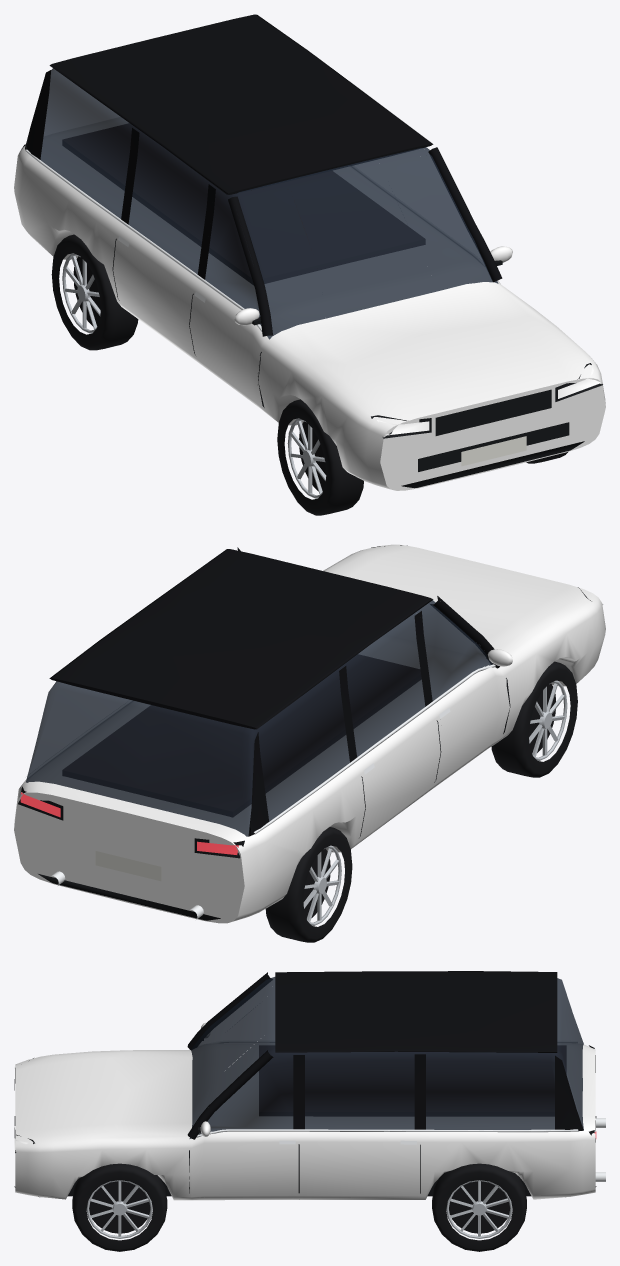
The model's file is solenne_marquee.lod.glb.
The picture shows the model from 3 angles, top to bottom: view 1: azimuth 30°, elevation 25°; view 2: azimuth 150°, elevation 25°; view 3: azimuth 270°, elevation 25°; orthographic projection. The views are drawn at different scales.
Parts seen in each view (by area): view 1: body_paint, body_roof, body_glass, body_trim, door_glass (×2), tire (×2), door_paint, body_pillar, rim (×2), body_chrome, door_pillar, headlights; view 2: body_paint, body_glass, body_roof, body_trim, tire (×2), door_paint, door_glass, rim (×2), body_pillar, body_chrome, rim_back (×2), door_pillar (+1 smaller); view 3: body_paint, body_glass, body_roof, body_trim, door_glass (×2), tire (×2), door_paint, body_pillar, rim_back (×2), rim (×2), body_chrome, door_pillar.
Boxes of the visible parts, x1,y1,x2,y2 form: body_paint: [14, 117, 605, 490]; body_roof: [49, 14, 433, 194]; body_glass: [40, 68, 438, 318]; body_trim: [21, 123, 602, 488]; door_glass (×2): [205, 147, 498, 339]; tire (×2): [51, 234, 363, 515]; door_paint: [193, 281, 269, 414]; body_pillar: [25, 70, 502, 336]; rim (×2): [62, 253, 326, 498]; body_chrome: [25, 149, 484, 332]; door_pillar: [203, 188, 266, 336]; headlights: [377, 367, 600, 435]; body_paint: [14, 544, 605, 923]; body_glass: [26, 612, 425, 836]; body_roof: [49, 549, 433, 729]; body_trim: [18, 545, 602, 920]; tire (×2): [265, 661, 577, 942]; door_paint: [433, 663, 507, 788]; door_glass: [416, 600, 492, 700]; rim (×2): [303, 680, 567, 925]; body_pillar: [237, 547, 497, 836]; body_chrome: [26, 664, 495, 919]; rim_back (×2): [303, 683, 555, 918]; door_pillar: [420, 596, 499, 702]; body_paint: [15, 1043, 595, 1200]; body_glass: [192, 977, 583, 1129]; body_roof: [275, 971, 557, 1052]; body_trim: [14, 1045, 596, 1197]; door_glass (×2): [189, 977, 298, 1138]; tire (×2): [72, 1163, 526, 1251]; door_paint: [192, 1130, 292, 1200]; body_pillar: [187, 972, 583, 1138]; rim_back (×2): [89, 1181, 510, 1233]; rim (×2): [86, 1180, 512, 1238]; body_chrome: [196, 1041, 605, 1181]; door_pillar: [190, 1054, 296, 1139].
Size of the model in its own units: 2.21 by 1.86 by 5.1.
